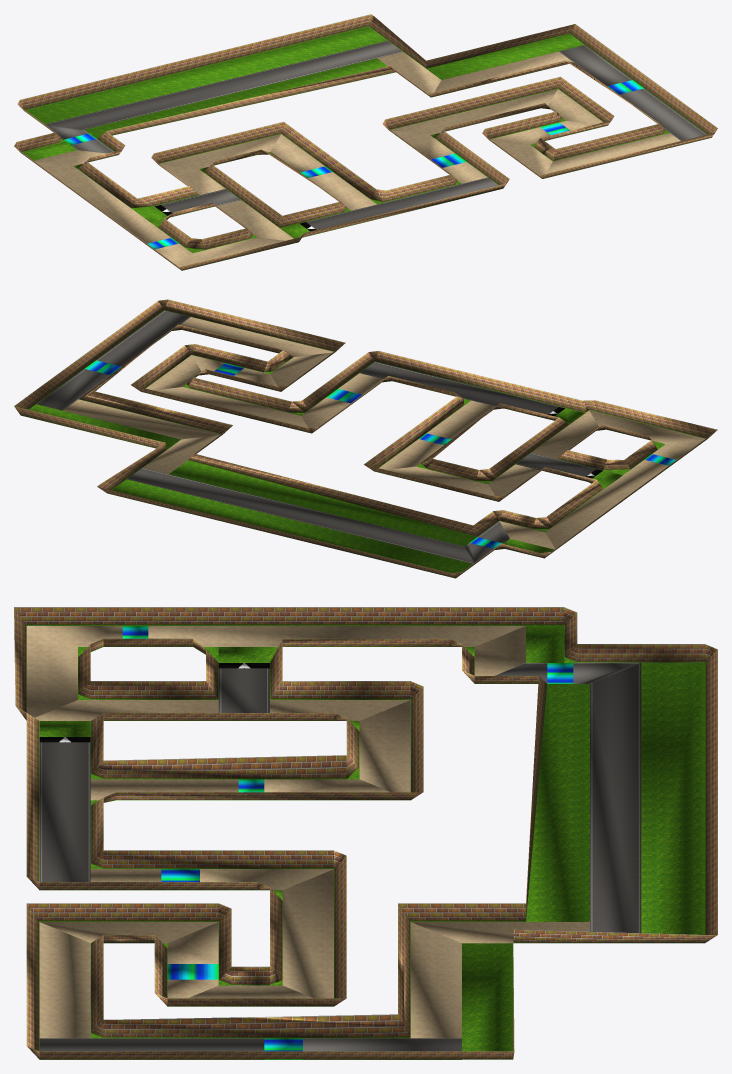
3 renders of one model, top to bottom at view 1: azimuth 30°, elevation 25°; view 2: azimuth 150°, elevation 25°; view 3: azimuth 270°, elevation 25°, orthographic. The views are drawn at different scales.
Visible parts, largest first — view 1: 2.008, 1.010, 6.006, 5.007, 4.008; view 2: 2.008, 1.010, 6.006, 5.007, 4.008; view 3: 2.008, 1.010, 6.006, 5.007, 4.008.
Part boxes in pixels (x1,y1,x2,y2): 2.008: (14, 14, 717, 270); 1.010: (34, 51, 680, 266); 6.006: (23, 26, 669, 253); 5.007: (45, 40, 706, 229); 4.008: (64, 80, 643, 249); 2.008: (14, 299, 717, 578); 1.010: (63, 317, 705, 549); 6.006: (29, 371, 665, 572); 5.007: (36, 310, 595, 563); 4.008: (85, 360, 675, 548); 2.008: (14, 607, 717, 1059); 1.010: (26, 626, 589, 1038); 6.006: (39, 626, 705, 1051); 5.007: (39, 663, 641, 1059); 4.008: (122, 626, 573, 1059).
Size of what is drawn, in the model's own units: 81587 by 1155 by 54638.
6 materials, 6 textured.
